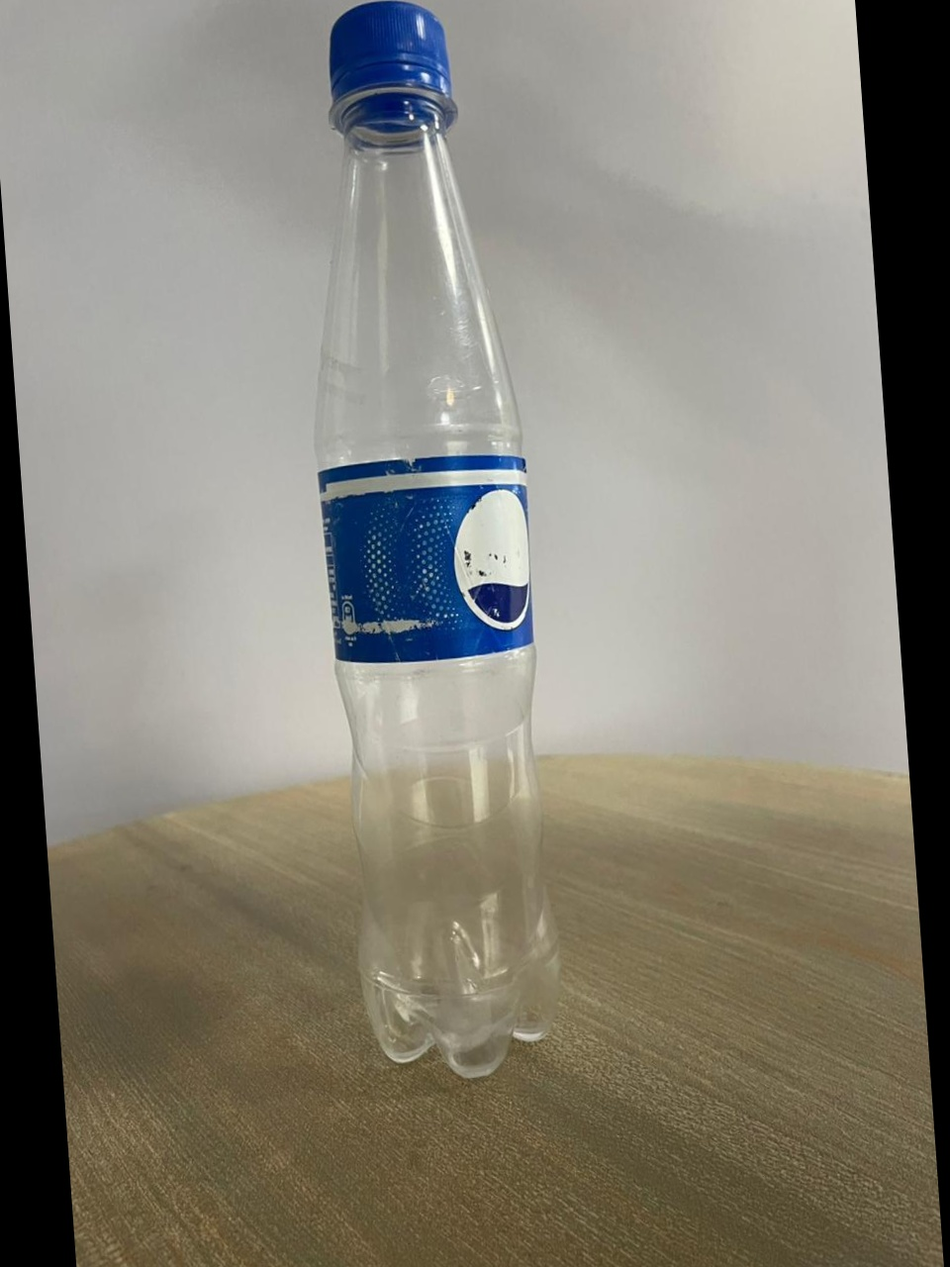Pepsi Bottle: (239, 0, 584, 1118), (242, 0, 588, 1110)
